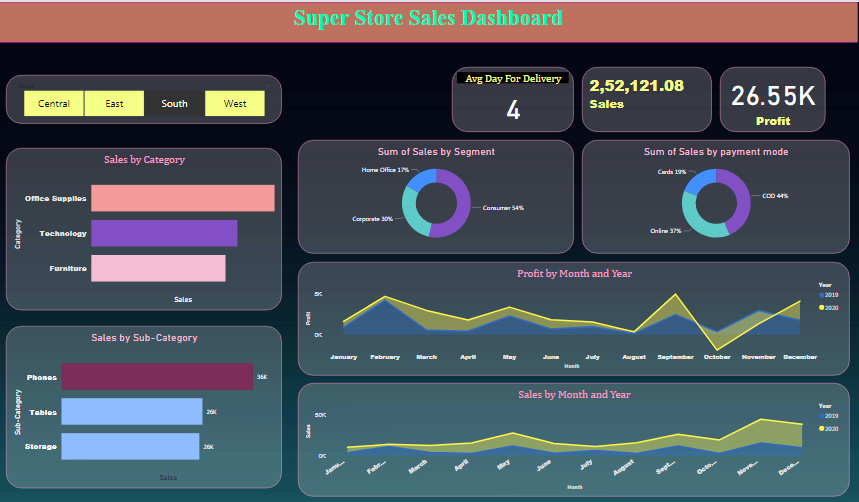

The page's visual inventory and layout, read from the dashboard file:
{"tool":"powerbi","page":{"name":"Page 1","canvas":[1700,1000],"ordinal":0},"visuals":[{"type":"clusteredBarChart","fields":{"Category":["SuperStore_Sales_Dataset.Category"],"Y":["Sum(SuperStore_Sales_Dataset.Sales)"]},"box":[16,288,544,320],"z":0},{"type":"clusteredBarChart","fields":{"Category":["SuperStore_Sales_Dataset.Sub-Category"],"Y":["Sum(SuperStore_Sales_Dataset.Sales)"]},"box":[16,640,544,320],"z":1000},{"type":"stackedAreaChart","fields":{"Y":["Sum(SuperStore_Sales_Dataset.Sales)"],"Category":["SuperStore_Sales_Dataset.Order Date.Variation.Date Hierarchy.Month","SuperStore_Sales_Dataset.Order Date.Variation.Date Hierarchy.Day"],"Series":["SuperStore_Sales_Dataset.Order Date.Variation.Date Hierarchy.Year"]},"box":[592,752,1088,224],"z":2000},{"type":"stackedAreaChart","fields":{"Category":["SuperStore_Sales_Dataset.Order Date.Variation.Date Hierarchy.Month","SuperStore_Sales_Dataset.Order Date.Variation.Date Hierarchy.Day"],"Series":["SuperStore_Sales_Dataset.Order Date.Variation.Date Hierarchy.Year"],"Y":["Sum(SuperStore_Sales_Dataset.Profit)"]},"box":[592,512,1088,224],"z":3000},{"type":"donutChart","title":"Sum of Sales by Segment","fields":{"Category":["SuperStore_Sales_Dataset.Segment"],"Y":["Sum(SuperStore_Sales_Dataset.Sales)"]},"box":[592,272,544,224],"z":4000},{"type":"donutChart","title":"Sum of Sales by payment mode","fields":{"Category":["SuperStore_Sales_Dataset.Payment Mode"],"Y":["Sum(SuperStore_Sales_Dataset.Sales)"]},"box":[1152,272,528,224],"z":5000},{"type":"slicer","fields":{"Values":["SuperStore_Sales_Dataset.Region"]},"box":[16,144,544,96],"z":6000},{"type":"multiRowCard","fields":{"Values":["Sum(SuperStore_Sales_Dataset.Sales)"]},"box":[1152,128,256,128],"z":7000},{"type":"card","fields":{"Values":["Sum(SuperStore_Sales_Dataset.Profit)"]},"box":[1424,128,208,128],"z":8000},{"type":"textbox","box":[0,0,1696,80],"z":9000},{"type":"card","title":"Avg Day For Delivery","fields":{"Values":["Avg(SuperStore_Sales_Dataset.Avgdelivery)"]},"box":[896,128,240,128],"z":10000}]}

Visuals, with their boxes in screenshot pixels (x1, y1, x2, y2), scaled from the page's 1700x1000 canvas onto the 859x502 screenshot:
clusteredBarChart - SuperStore_Sales_Dataset.Category x Sum(SuperStore_Sales_Dataset.Sales): detection(8, 145, 283, 305)
clusteredBarChart - SuperStore_Sales_Dataset.Sub-Category x Sum(SuperStore_Sales_Dataset.Sales): detection(8, 321, 283, 482)
stackedAreaChart - Sum(SuperStore_Sales_Dataset.Sales) x SuperStore_Sales_Dataset.Order Date.Variation.Date Hierarchy.Month: detection(299, 378, 849, 490)
stackedAreaChart - SuperStore_Sales_Dataset.Order Date.Variation.Date Hierarchy.Month x SuperStore_Sales_Dataset.Order Date.Variation.Date Hierarchy.Day: detection(299, 257, 849, 369)
"Sum of Sales by Segment" donutChart: detection(299, 137, 574, 249)
"Sum of Sales by payment mode" donutChart: detection(582, 137, 849, 249)
slicer - SuperStore_Sales_Dataset.Region: detection(8, 72, 283, 120)
multiRowCard - Sum(SuperStore_Sales_Dataset.Sales): detection(582, 64, 711, 129)
card - Sum(SuperStore_Sales_Dataset.Profit): detection(720, 64, 825, 129)
textbox: detection(0, 0, 857, 40)
"Avg Day For Delivery" card: detection(453, 64, 574, 129)
